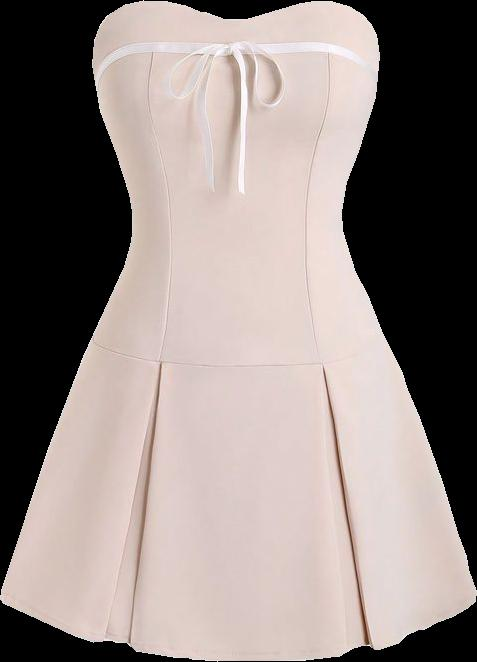Bodice: (89, 1, 389, 367)
Hemline: (0, 595, 476, 661)
Neckline: (91, 0, 380, 44)
Skirt: (0, 344, 476, 660)
Waistline: (89, 338, 394, 371)
